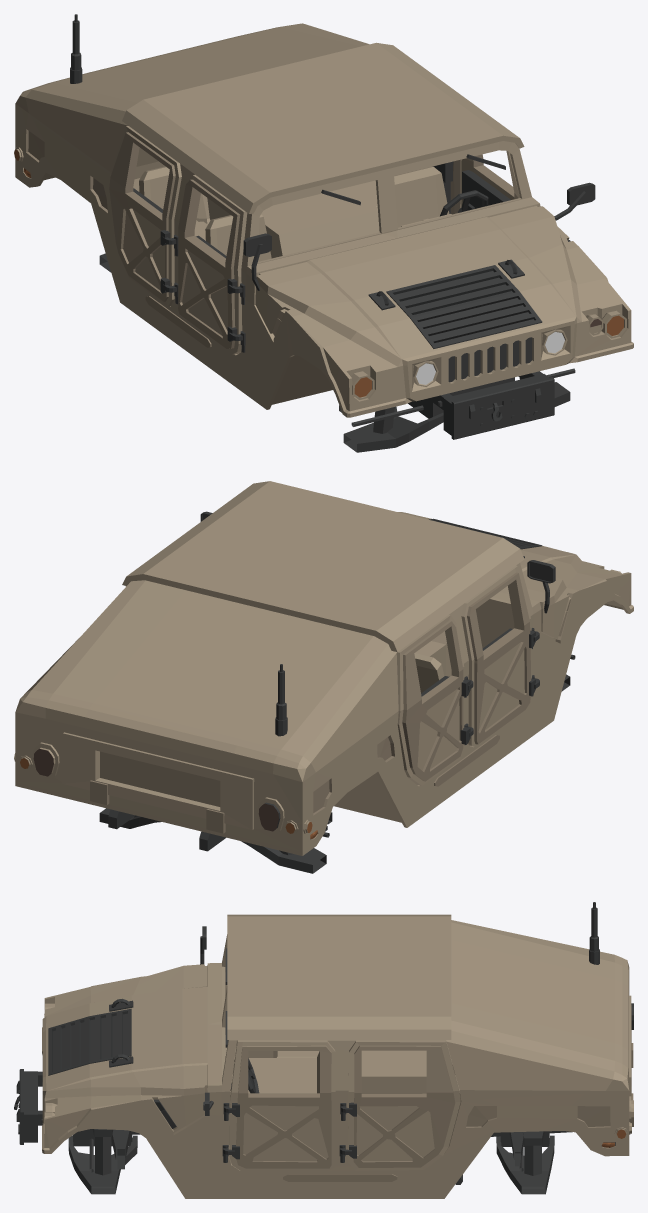
Rendered from humvee_chasis.glb.
3 views of the same model, one above another, from view 1: azimuth 30°, elevation 25°; view 2: azimuth 150°, elevation 25°; view 3: azimuth 270°, elevation 25° (orthographic). The views are drawn at different scales.
Parts seen in each view (by area): view 1: humvee.001_Material_0; view 2: humvee.001_Material_0; view 3: humvee.001_Material_0.
Boxes of the visible parts, x1,y1,x2,y2 form: humvee.001_Material_0: (14,14,633,452); humvee.001_Material_0: (14,481,633,873); humvee.001_Material_0: (14,902,633,1198).
Bounding box in the file's own units: 1.78 × 1.11 × 3.08.
1 material, 1 textured.
